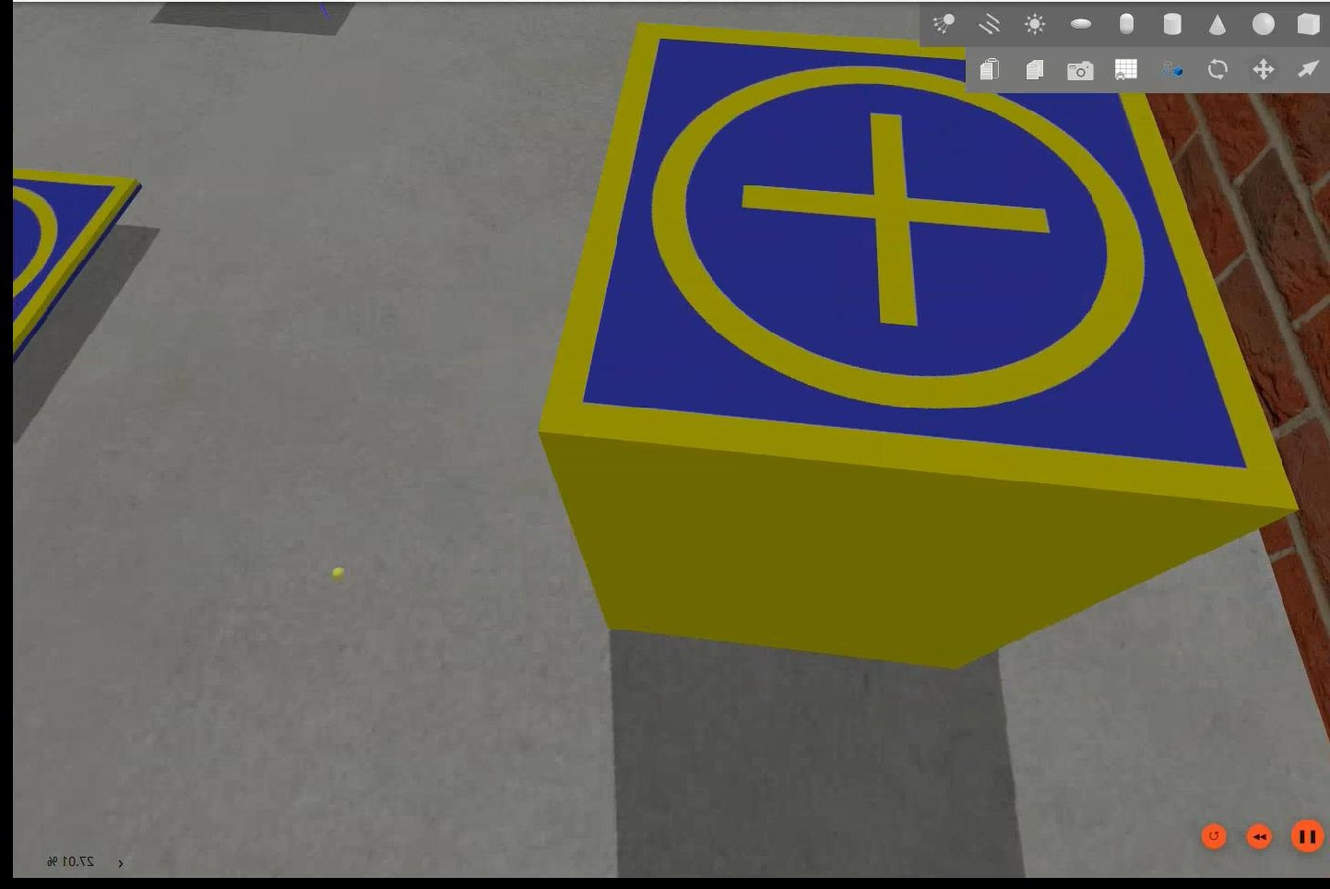small_base: (532, 11, 1293, 530), (0, 166, 141, 360)
